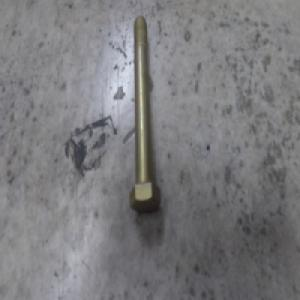Bolt: (128, 14, 161, 213)
